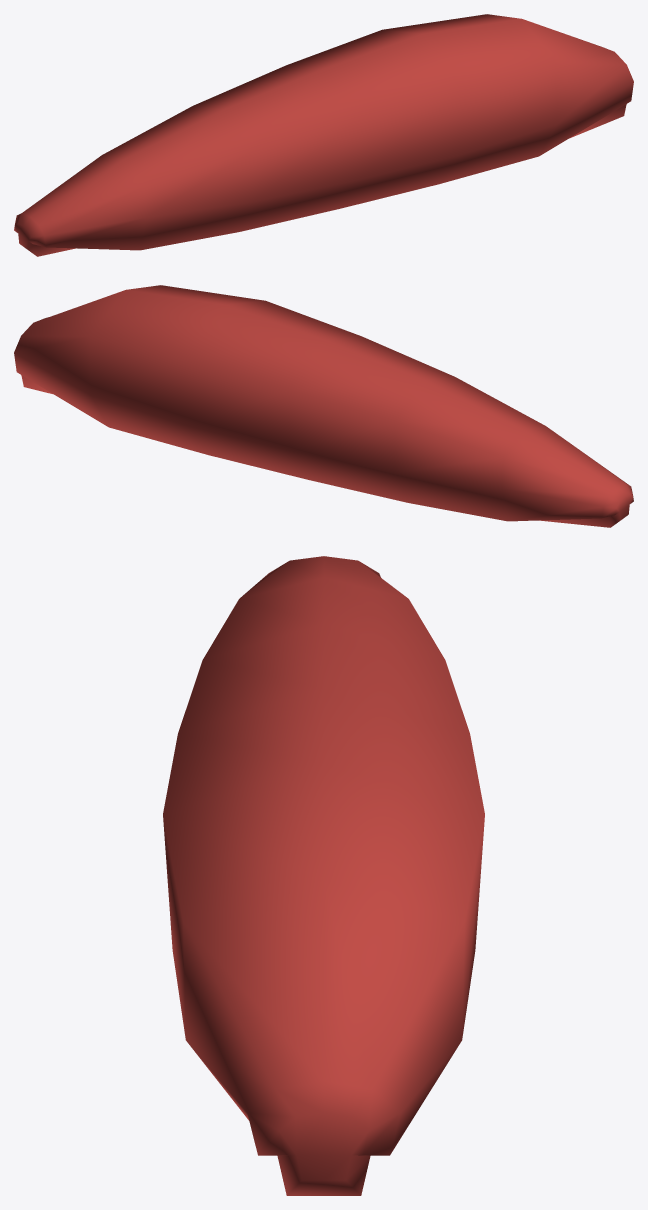
The model's file is teardrop_lod2.glb.
The picture shows the model from 3 angles, top to bottom: view 1: azimuth 30°, elevation 25°; view 2: azimuth 150°, elevation 25°; view 3: azimuth 270°, elevation 25°; orthographic projection. The views are drawn at different scales.
Parts seen in each view (by area): view 1: teardrop_lod2; view 2: teardrop_lod2; view 3: teardrop_lod2.
Part boxes in pixels (x1,y1,x2,y2): teardrop_lod2: [14, 14, 633, 256]; teardrop_lod2: [14, 285, 633, 527]; teardrop_lod2: [163, 556, 484, 1195].
Size of the model in its own units: 1 by 0.2203 by 0.233.
